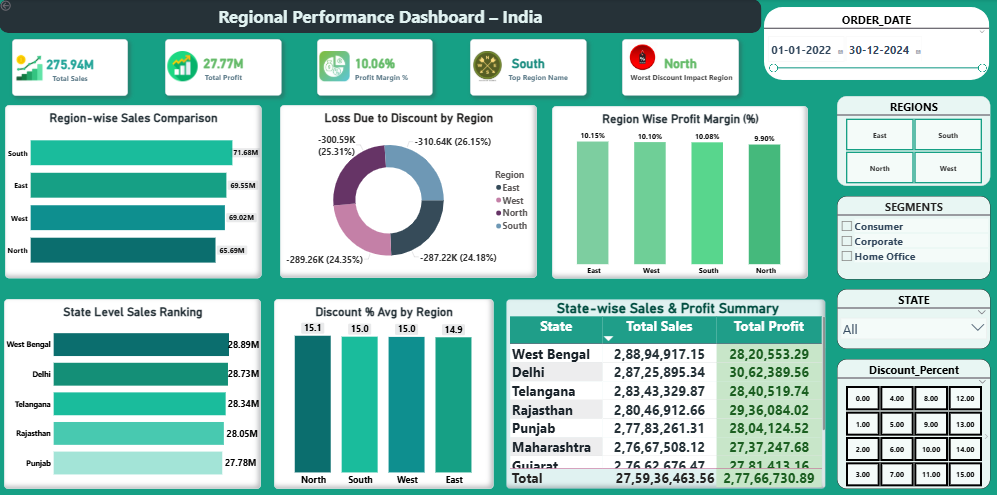

The page's visual inventory and layout, read from the dashboard file:
{"tool":"powerbi","page":{"name":"Regional Performance","canvas":[3000,1500],"ordinal":1},"visuals":[{"type":"shape","box":[0,0,2287.6,102.1],"z":0},{"type":"card","fields":{"Values":["Fact_Sales.Total Sales"]},"box":[39,118.8,348,171],"z":1000,"group":"g2"},{"type":"clusteredBarChart","title":"Region-wise Sales Comparison","fields":{"Category":["Dim_Customer.Region"],"Y":["Fact_Sales.Total Sales"]},"box":[16.5,317.7,770,520],"z":1000},{"type":"card","fields":{"Values":["Fact_Sales.Profit Margin %"]},"box":[954,118.8,347,170],"z":2000,"group":"g3"},{"type":"barChart","title":"State Level Sales Ranking","fields":{"Category":["Dim_Customer.State"],"Y":["Fact_Sales.Total Sales"]},"box":[16.5,900,771.4,570.3],"z":2000},{"type":"card","fields":{"Values":["Fact_Sales.Top Region Name"]},"box":[1411.5,118.8,350,170],"z":3000,"group":"g4"},{"type":"clusteredColumnChart","title":"Region Wise Profit Margin (%)","fields":{"Category":["Dim_Customer.Region"],"Y":["Fact_Sales.Profit Margin %"]},"box":[1658.2,319.8,768.1,517.6],"z":3000},{"type":"card","title":"Worst Discount Impact Region ⚠️","fields":{"Values":["Fact_Sales.Worst Discount Impact Region"]},"box":[1869,118.8,351,170],"z":4000,"group":"g5"},{"type":"donutChart","title":"Loss Due to Discount by Region","fields":{"Category":["Dim_Customer.Region"],"Y":["Fact_Sales.Total Profit"],"Series":["Fact_Sales.Discount Impact"]},"box":[841.8,318.2,771,519],"z":4000},{"type":"card","fields":{"Values":["Fact_Sales.Total Profit"]},"box":[496.5,118.8,350,170],"z":5000,"group":"g1"},{"type":"slicer","fields":{"Values":["Dim_Customer.Region"]},"box":[2514,291,460,270],"z":5000},{"type":"slicer","fields":{"Values":["Dim_Customer.State"]},"box":[2514,870.3,460,180],"z":6000},{"type":"slicer","fields":{"Values":["Dim_Customer.Segment"]},"box":[2514,590.7,460,250],"z":7000},{"type":"slicer","fields":{"Values":["Fact_Sales.Discount_Percent"]},"box":[2514,1080,460,390],"z":8000},{"type":"shape","box":[2296.4,23.2,676,218.7],"z":9000},{"type":"slicer","title":" ","fields":{"Values":["Dim_Date.Order_Date"]},"box":[2296.4,0,675.6,241.5],"z":10000},{"type":"group","id":"g1","title":"Group 1","box":[496.5,118.8,348,171],"z":11000},{"type":"group","id":"g2","title":"Group 2","box":[39,118.8,348,171],"z":12000},{"type":"group","id":"g3","title":"Group 3","box":[954,118.8,348,171],"z":13000},{"type":"group","id":"g4","title":"Group 4","box":[1411.5,118.8,348,171],"z":14000},{"type":"image","box":[39,157.8,105,93],"z":14000,"group":"g2"},{"type":"group","id":"g5","title":"Group 5","box":[1869,118.8,351,171],"z":15000},{"type":"actionButton","box":[0,0,100,40],"z":16000},{"type":"image","box":[498,155,105,91],"z":16000,"group":"g1"},{"type":"image","box":[954,155,104.1,91],"z":17000,"group":"g3"},{"type":"tableEx","title":"State-wise Sales & Profit Summary","fields":{"Values":["Dim_Customer.State","Fact_Sales.Total Sales","Fact_Sales.Total Profit"]},"box":[1519.8,900,959.3,570.3],"z":17000},{"type":"image","box":[1413,155,105,91],"z":18000,"group":"g4"},{"type":"columnChart","fields":{"Category":["Dim_Customer.Region"],"Y":["Fact_Sales.Discount % Avg"]},"box":[824.2,900,659.3,570.3],"z":18000},{"type":"image","box":[1879,126.8,105,91],"z":19000,"group":"g5"}]}

Visuals, with their boxes in screenshot pixels (x1, y1, x2, y2), scaled from the page's 3000x1500 canvas onto the 997x495 screenshot:
shape: [0, 0, 760, 34]
card - Fact_Sales.Total Sales: [13, 39, 129, 96]
"Region-wise Sales Comparison" clusteredBarChart: [5, 105, 261, 276]
card - Fact_Sales.Profit Margin %: [317, 39, 432, 95]
"State Level Sales Ranking" barChart: [5, 297, 262, 485]
card - Fact_Sales.Top Region Name: [469, 39, 585, 95]
"Region Wise Profit Margin (%)" clusteredColumnChart: [551, 106, 806, 276]
"Worst Discount Impact Region ⚠️" card: [621, 39, 738, 95]
"Loss Due to Discount by Region" donutChart: [280, 105, 536, 276]
card - Fact_Sales.Total Profit: [165, 39, 281, 95]
slicer - Dim_Customer.Region: [835, 96, 988, 185]
slicer - Dim_Customer.State: [835, 287, 988, 347]
slicer - Dim_Customer.Segment: [835, 195, 988, 277]
slicer - Fact_Sales.Discount_Percent: [835, 356, 988, 485]
shape: [763, 8, 988, 80]
" " slicer: [763, 0, 988, 80]
"Group 1" group: [165, 39, 281, 96]
"Group 2" group: [13, 39, 129, 96]
"Group 3" group: [317, 39, 433, 96]
"Group 4" group: [469, 39, 585, 96]
image: [13, 52, 48, 83]
"Group 5" group: [621, 39, 738, 96]
actionButton: [0, 0, 33, 13]
image: [166, 51, 200, 81]
image: [317, 51, 352, 81]
"State-wise Sales & Profit Summary" tableEx: [505, 297, 824, 485]
image: [470, 51, 504, 81]
columnChart - Dim_Customer.Region x Fact_Sales.Discount % Avg: [274, 297, 493, 485]
image: [624, 42, 659, 72]
